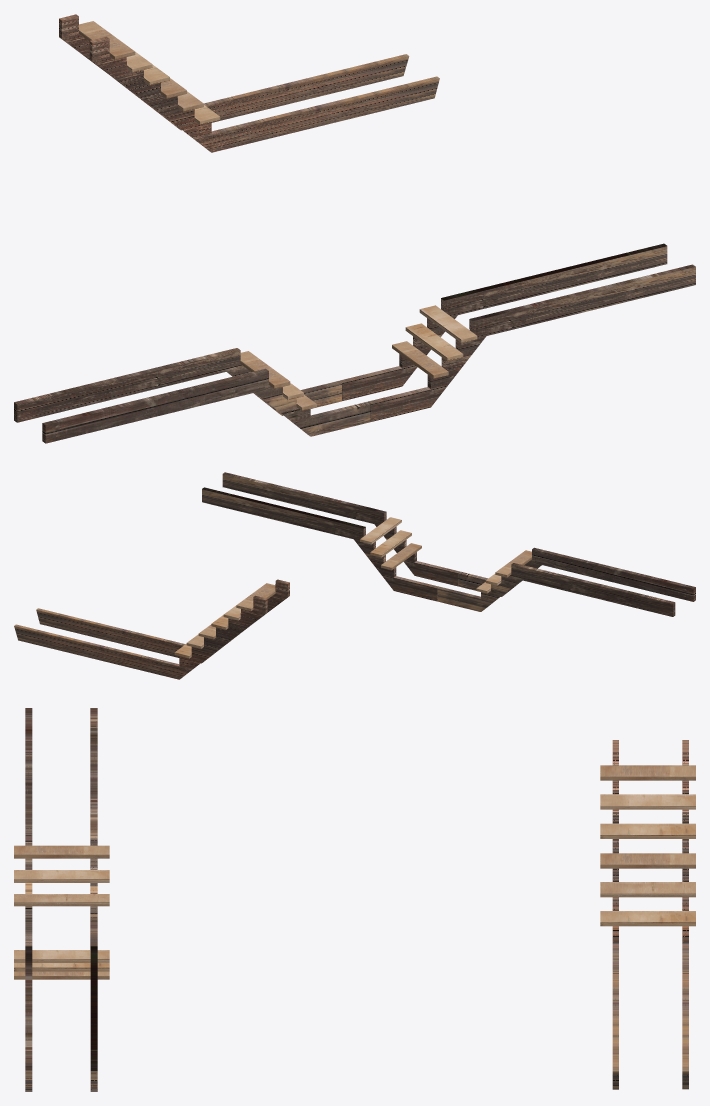
File: steps.fbx
3 renders of one model, top to bottom at view 1: azimuth 30°, elevation 25°; view 2: azimuth 150°, elevation 25°; view 3: azimuth 270°, elevation 25°, orthographic. The views are drawn at different scales.
Visible parts, largest first — view 1: pCube268; view 2: pCube268; view 3: pCube268.
Part boxes in pixels (box(x1,y1,x2,y2)): pCube268: box(14, 14, 695, 443); pCube268: box(14, 472, 695, 679); pCube268: box(14, 708, 695, 1091).
Bounding box in the file's own units: 21.99 × 6.34 × 17.45.
Materials: 5 (5 with a texture image).
